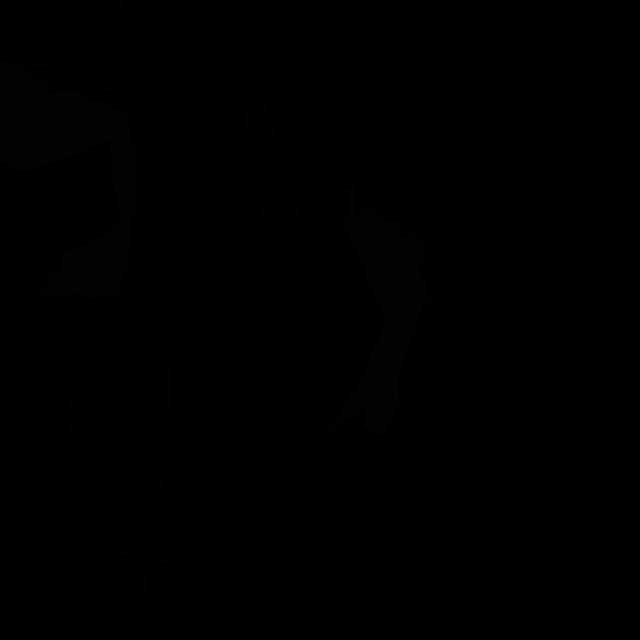cardboard: (0, 60, 134, 300), (328, 184, 430, 436), (0, 96, 18, 164)
rigid_plastic: (65, 288, 178, 592), (235, 89, 304, 221)
